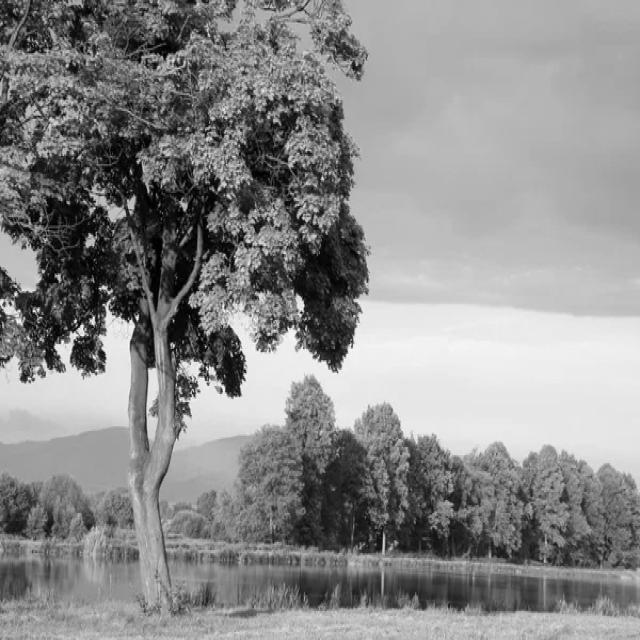Tree: (0, 1, 368, 614)
